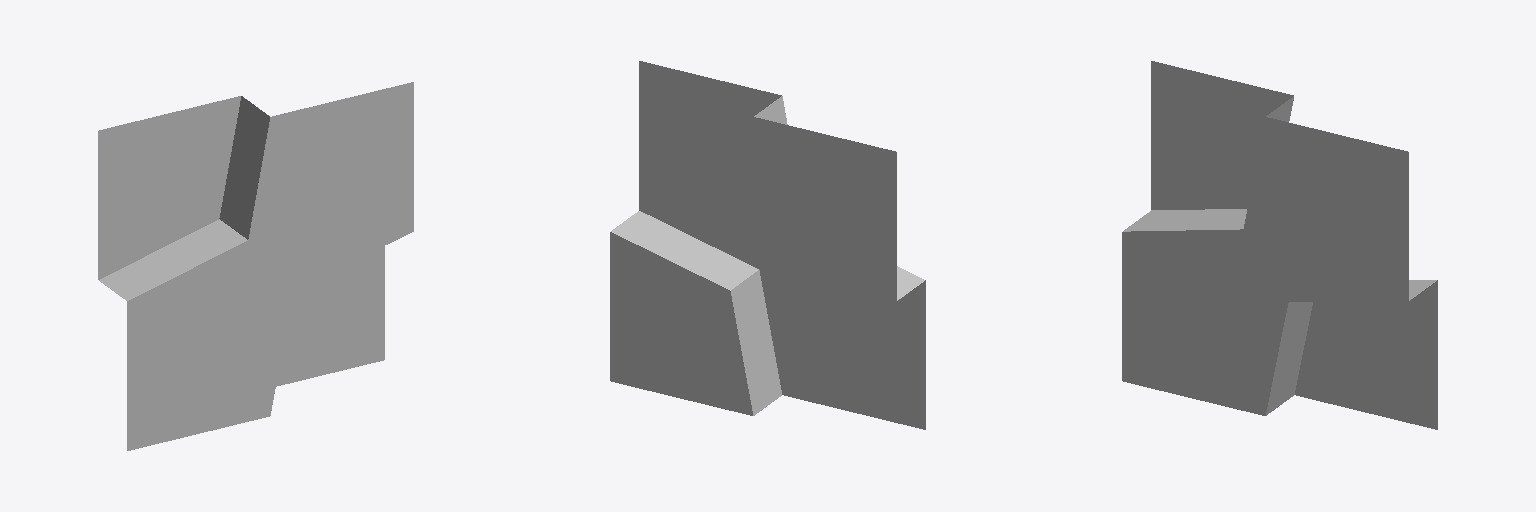
Rendered from Tile_g1w1g1w1.obj.
3 renders of one model, left to right at view 1: azimuth 30°, elevation 25°; view 2: azimuth 150°, elevation 25°; view 3: azimuth 330°, elevation 25°, orthographic.
Visible parts, largest first — view 1: Tile_g1w1g1w1; view 2: Tile_g1w1g1w1; view 3: Tile_g1w1g1w1.
Part boxes in pixels (x1,y1,x2,y2): Tile_g1w1g1w1: (98,82,413,450); Tile_g1w1g1w1: (610,61,925,429); Tile_g1w1g1w1: (1122,61,1437,429).
Size of the model in its own units: 2 by 2 by 0.35.